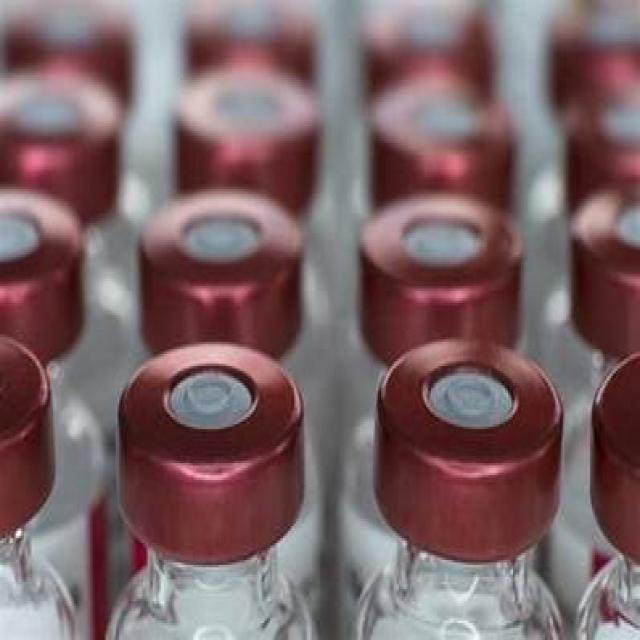vial: (389, 348, 555, 498), (124, 352, 311, 482), (140, 204, 306, 334), (362, 218, 540, 308), (374, 86, 516, 182), (174, 82, 308, 170), (6, 336, 70, 511), (0, 177, 77, 310), (0, 92, 122, 164), (550, 3, 640, 94), (573, 192, 640, 312), (178, 0, 306, 62), (589, 352, 640, 502), (0, 0, 133, 54), (370, 0, 512, 50), (569, 126, 640, 181)
